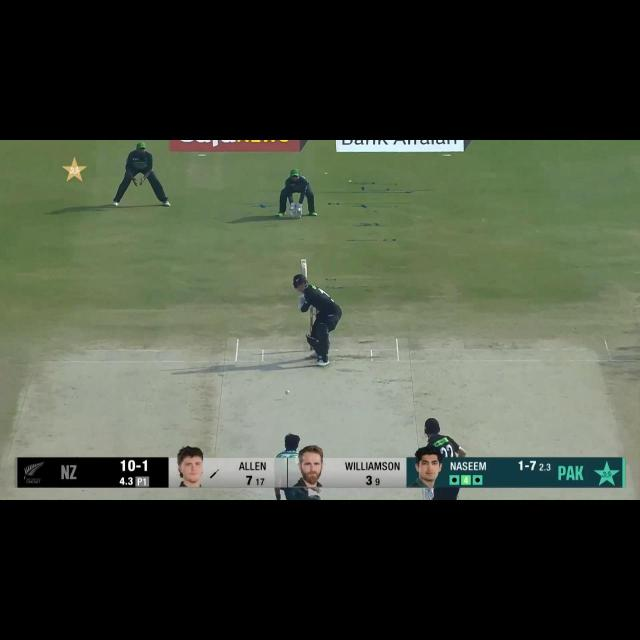bat: (300, 258, 310, 279)
toe: (301, 258, 308, 266)
